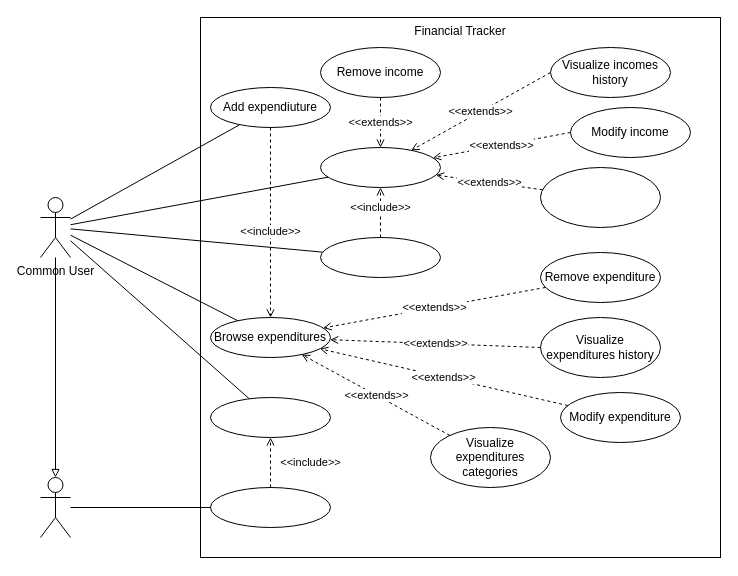
Image size: 738x576. Some labels were removed from this diagram. Each missing label, with the box of its shape:
Add income: (320, 236, 440, 278)
Browse incomes: (320, 146, 440, 188)
Guest: (40, 476, 70, 538)
Login: (210, 396, 330, 438)
Register: (210, 486, 330, 528)
Visualize incomes categories: (540, 166, 660, 228)
